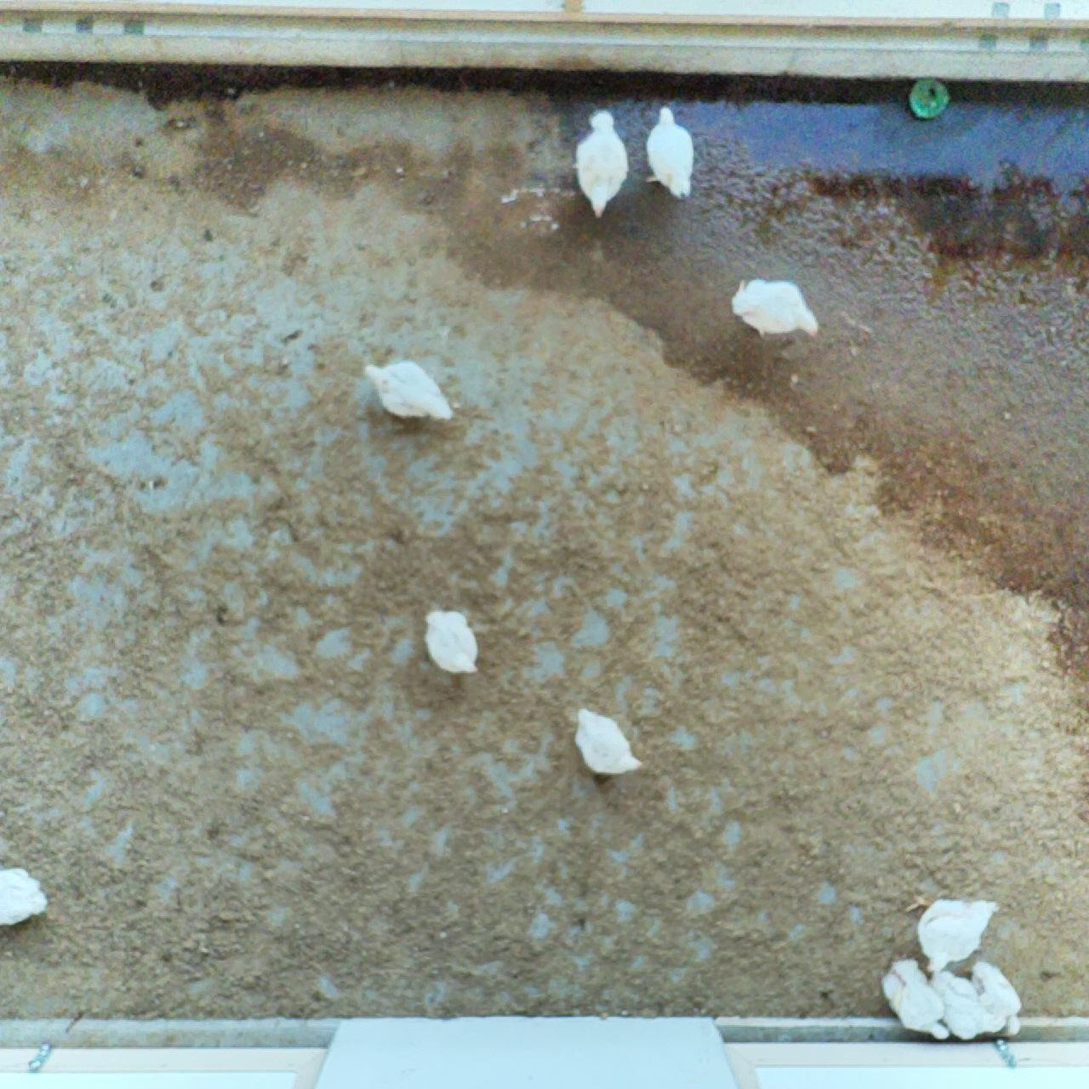chicken: (355, 350, 459, 436), (905, 893, 1000, 980), (569, 105, 635, 216), (728, 271, 826, 345), (966, 953, 1035, 1054), (641, 91, 703, 202), (570, 703, 651, 780), (411, 600, 485, 682), (876, 954, 941, 1047), (928, 963, 993, 1044), (0, 855, 50, 934)
